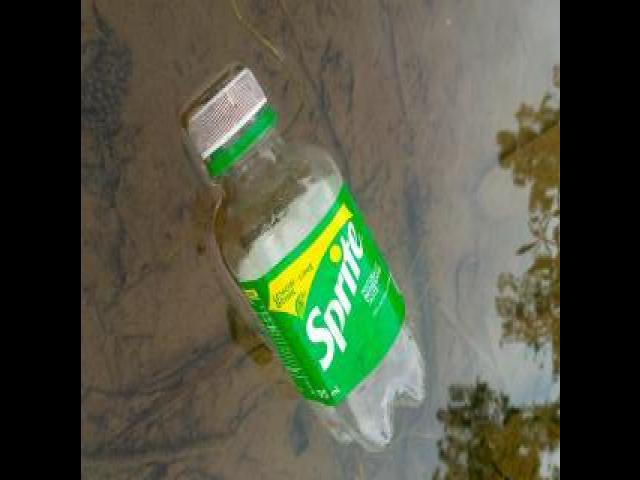Bottle: (178, 54, 436, 456)
